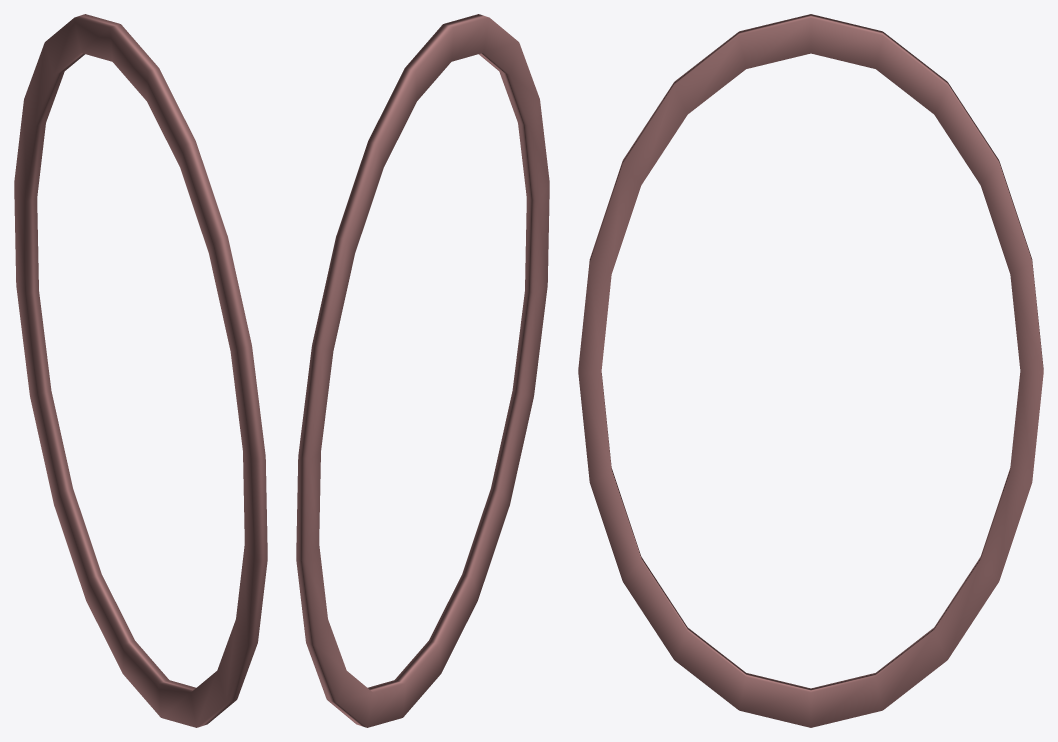
The model's file is mirror.fbx.
3 views of the same model, side by side, from view 1: azimuth 30°, elevation 25°; view 2: azimuth 150°, elevation 25°; view 3: azimuth 270°, elevation 25° (orthographic). The views are drawn at different scales.
Parts seen in each view (by area): view 1: pPipe1; view 2: pPipe1; view 3: pPipe1.
Boxes of the visible parts, x1,y1,x2,y2 form: pPipe1: (14,14,267,727); pPipe1: (296,14,549,727); pPipe1: (578,14,1043,727).
Size of the model in its own units: 0.4521 by 4.9 by 3.01.
